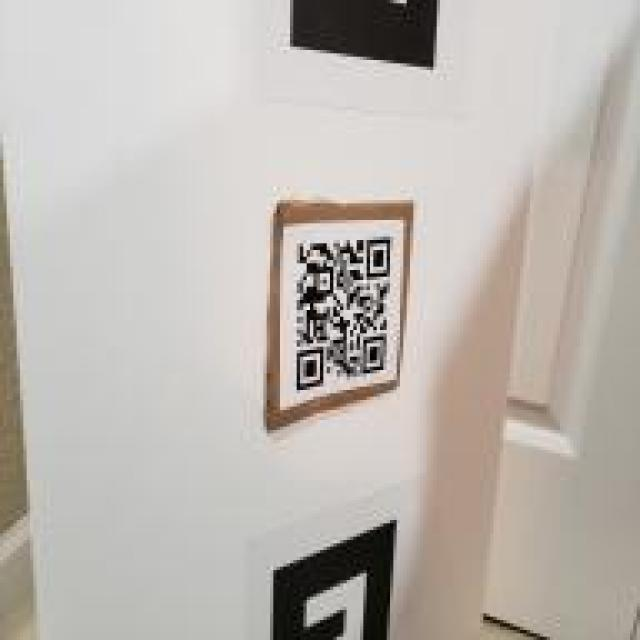qr_code: (296, 239, 391, 390)
